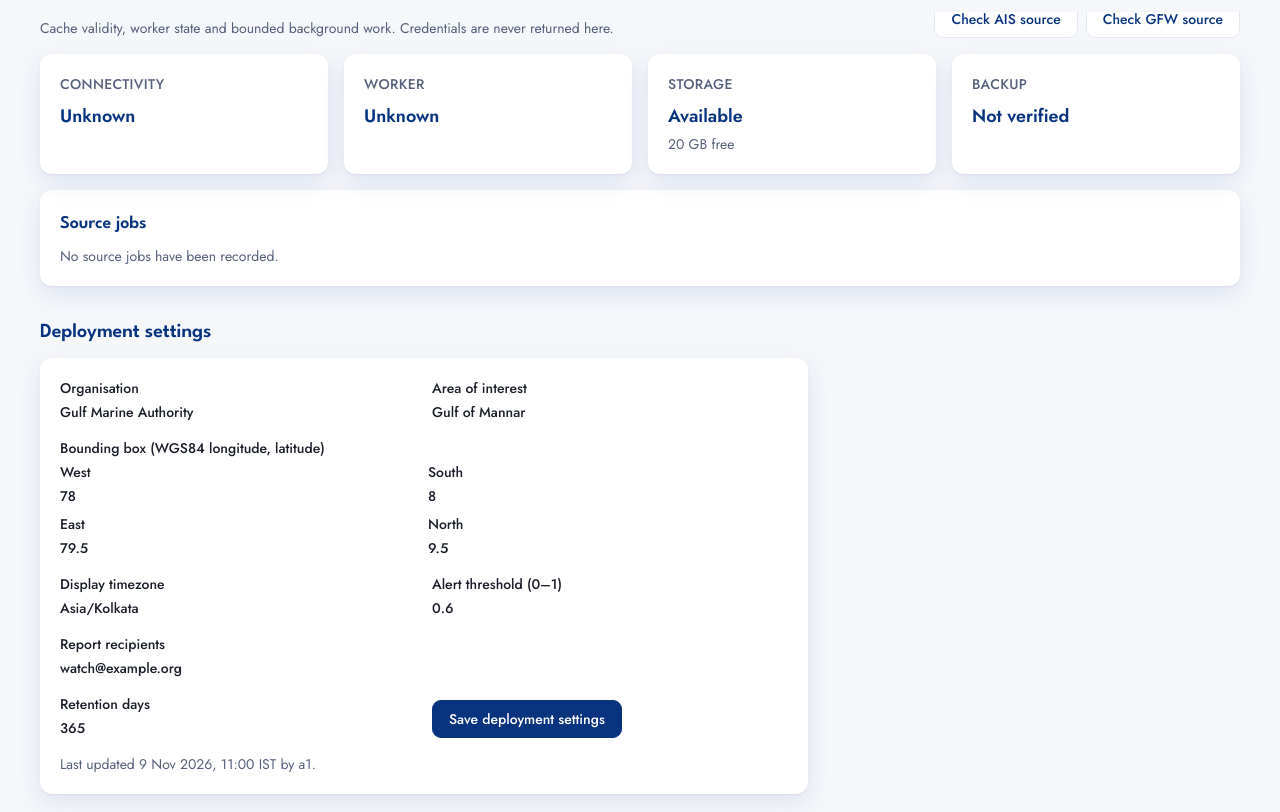
Scenario: Operations page › lets an Administrator read and save deployment settings
(page scrolled)
expect the field labelled "Area of interest" holds "Gulf of Mannar": met, box [432, 402, 788, 422]
expect the number field labelled "West" holds "78": met, box [60, 486, 420, 506]
Replace the text in the field labelled "Organisation" with "New Organisation" at (238,412), box [60, 402, 416, 422]
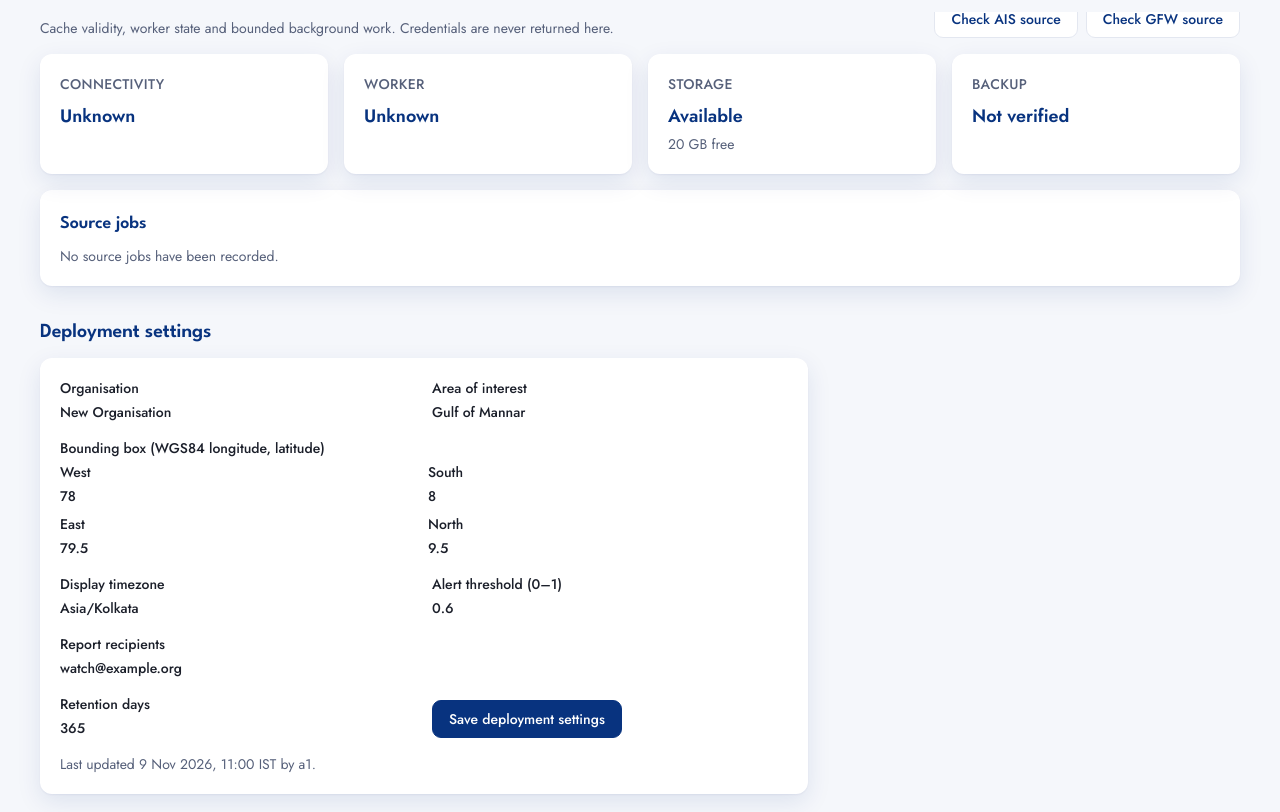
Click the button "Save deployment settings" at (527,719), box [432, 700, 622, 738]
(page scrolled)
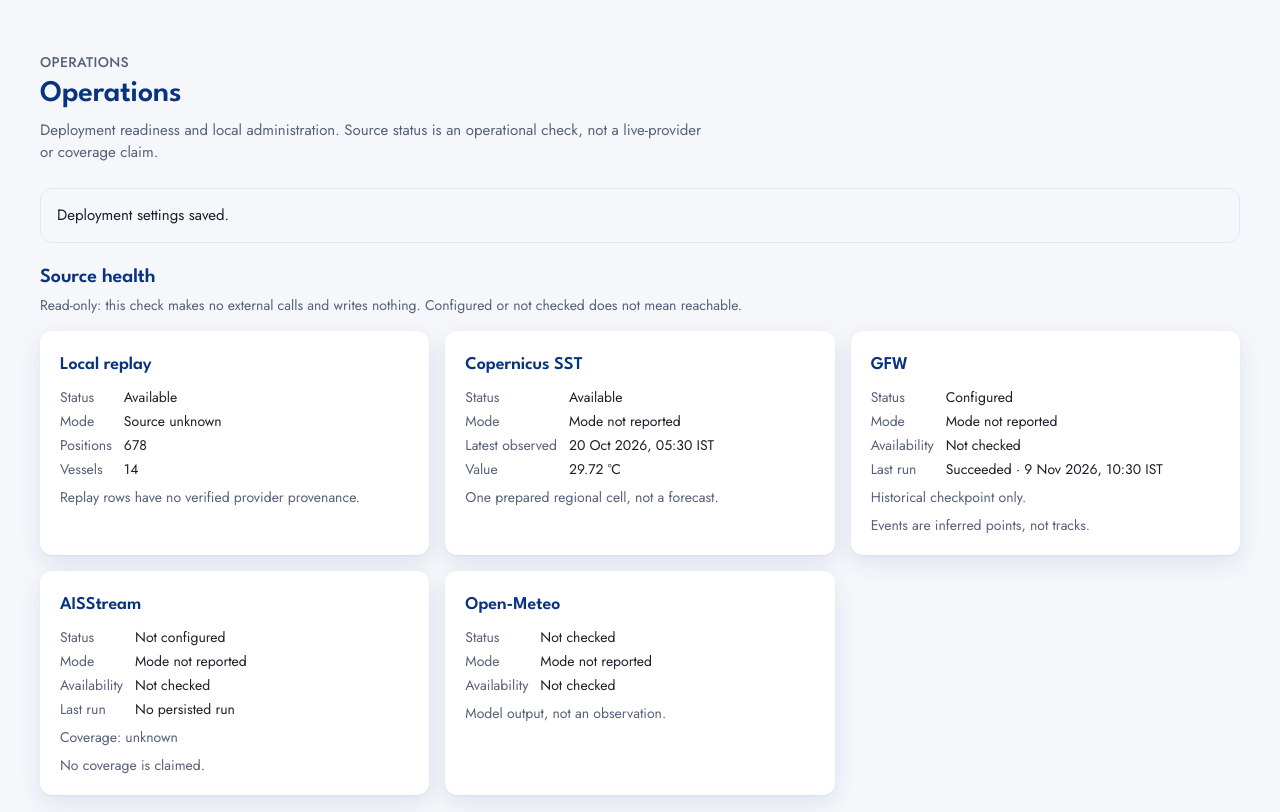
expect the message shows "Deployment settings saved": met, box [57, 204, 229, 226]
